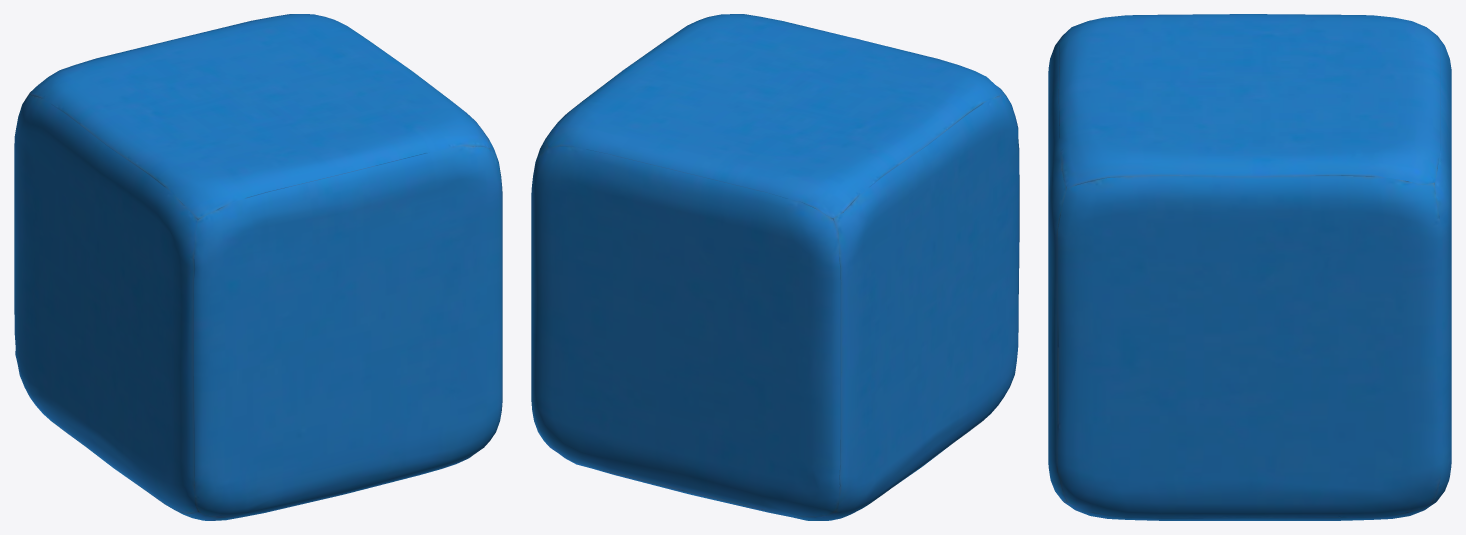
Rendered from soft_block_blue.glb.
3 renders of one model, left to right at view 1: azimuth 30°, elevation 25°; view 2: azimuth 150°, elevation 25°; view 3: azimuth 270°, elevation 25°, orthographic. The views are drawn at different scales.
Size of what is drawn, in the model's own units: 0.9872 by 1 by 1.
1 material, 1 textured.
